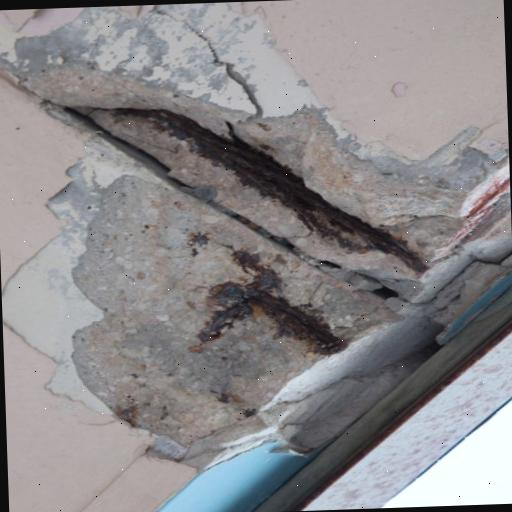spalling: (26, 68, 492, 444)
